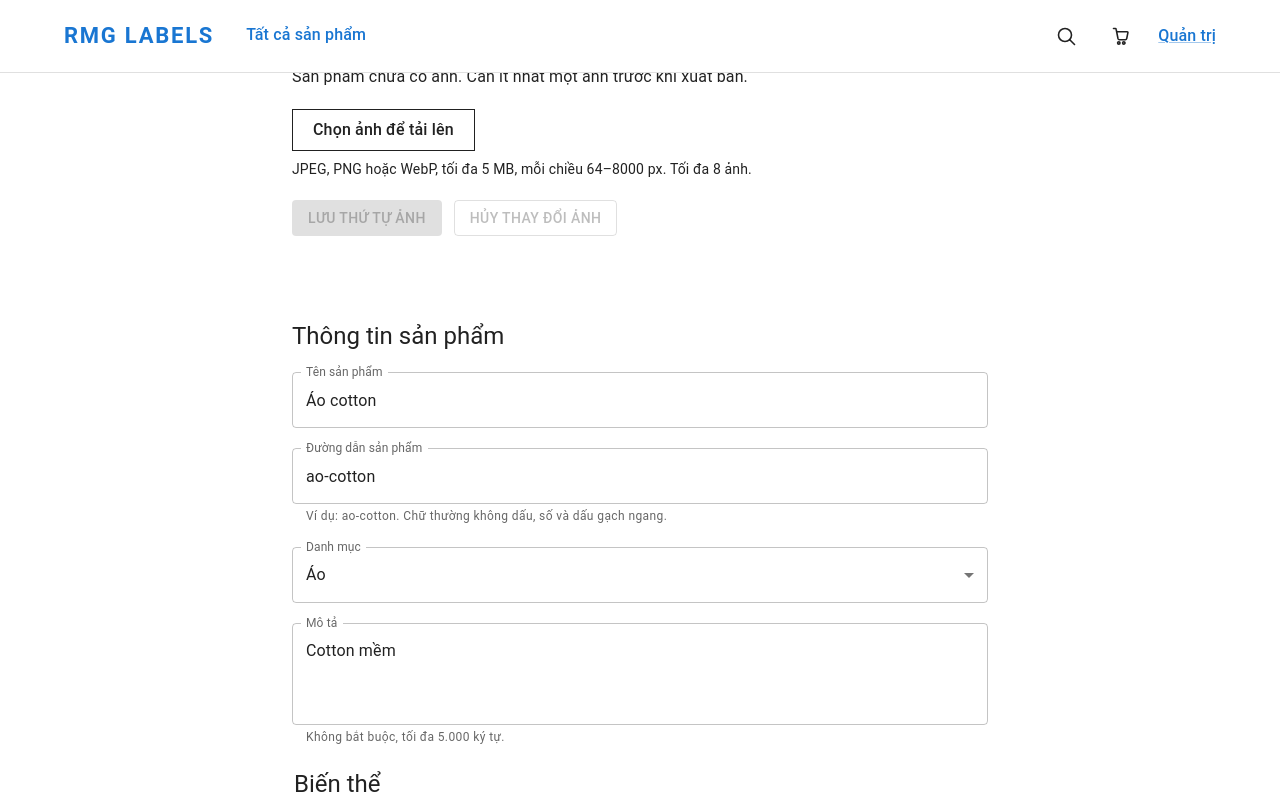
Scenario: edit a draft product › pre-fills saved data and variants, and sends only the update DTO with the captured version
The image size is (1280, 800).
(page scrolled)
Expected: the field labelled "Đường dẫn sản phẩm" holds "ao-cotton", left=292, top=448, right=988, bottom=504
Expected: the dropdown labelled "Danh mục" shows "Áo", left=292, top=547, right=988, bottom=603
Step 1. Replace the text in the field labelled "Tên sản phẩm" with "Áo cotton đã sửa" → (640, 400), box left=292, top=372, right=988, bottom=428
(page scrolled)
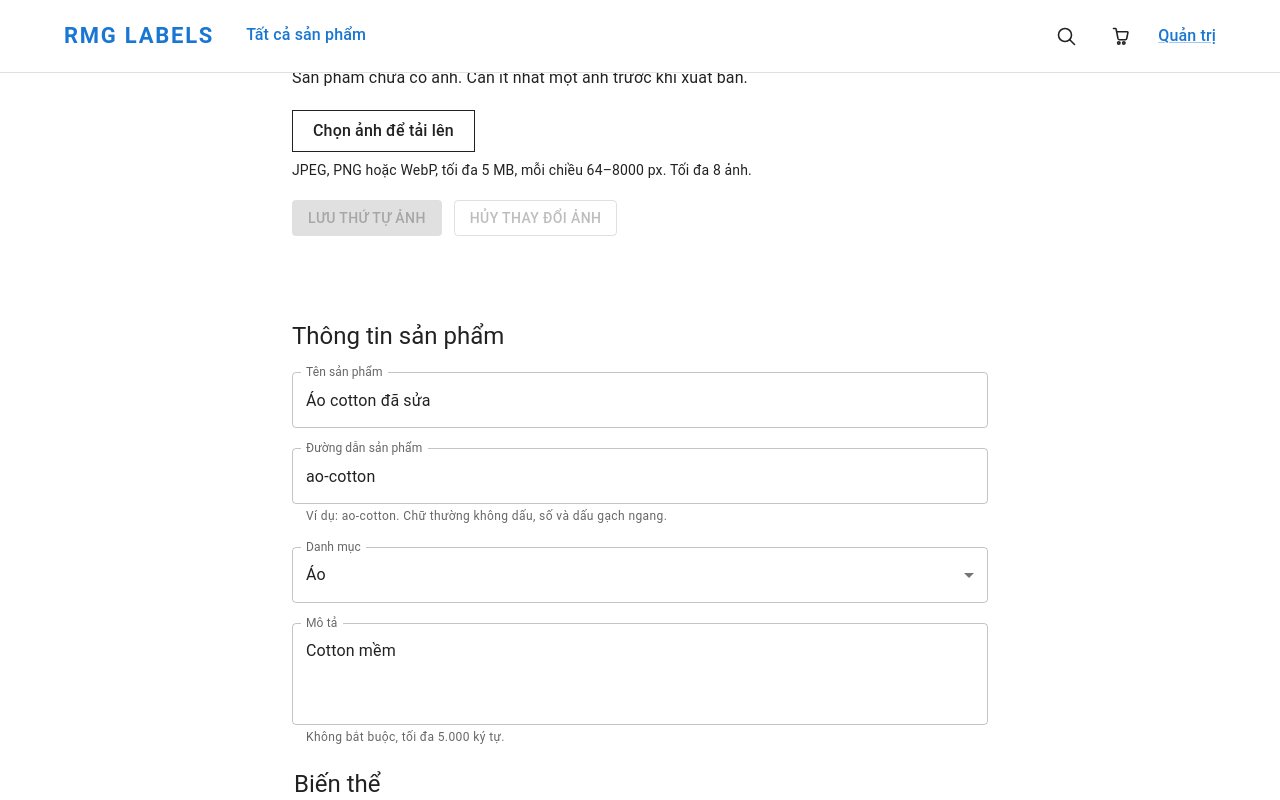
Step 2. Replace the text in the text box labelled "Mô tả" with "Mô tả mới" → (640, 674), box left=306, top=639, right=974, bottom=708
(page scrolled)
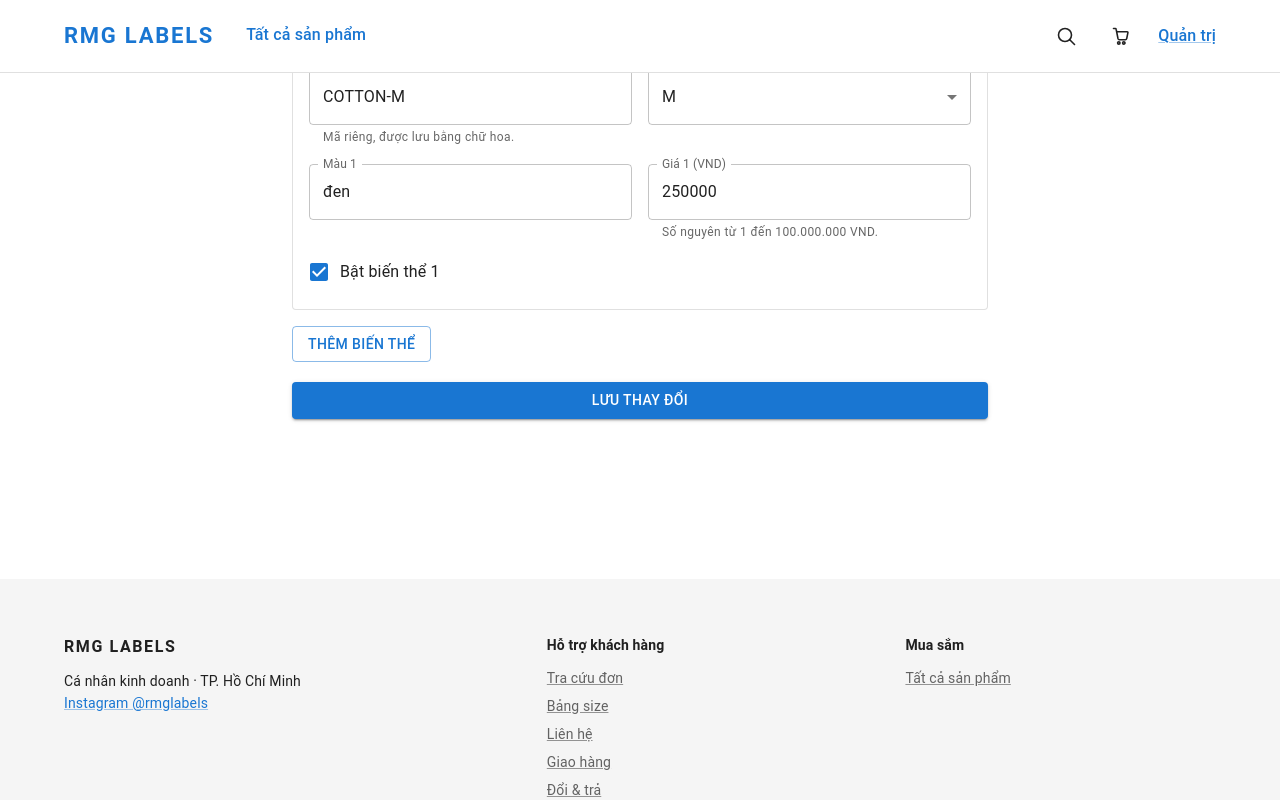
Step 3. Click the button "Lưu thay đổi" → (640, 400), box left=292, top=382, right=988, bottom=419
(page scrolled)
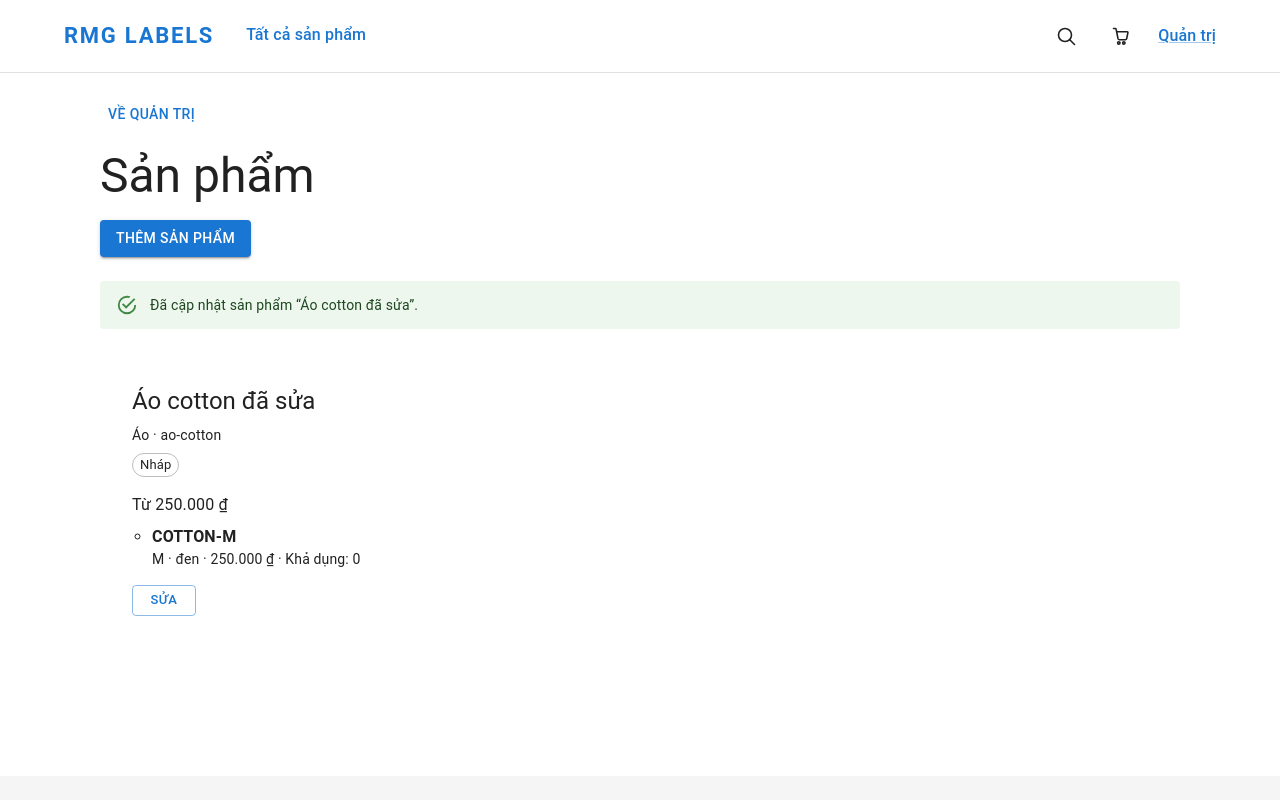
Expected: the text "Đã cập nhật sản phẩm “Áo cotton đã sửa”." is shown, left=150, top=297, right=418, bottom=313
Expected: the heading "Áo cotton đã sửa" is shown, left=132, top=387, right=315, bottom=415
